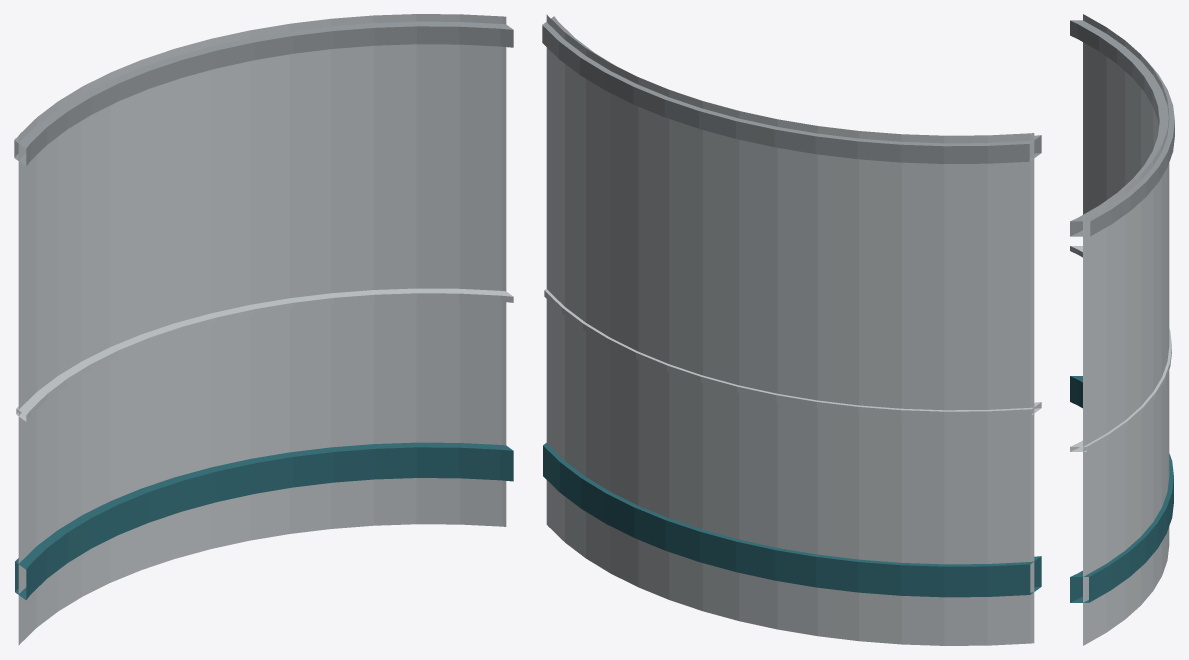
File: cell_46.obj
3 views of the same model, side by side, from view 1: azimuth 30°, elevation 25°; view 2: azimuth 150°, elevation 25°; view 3: azimuth 270°, elevation 25° (orthographic). The views are drawn at different scales.
Bounding box in the file's own units: 1 × 1 × 0.2207.
